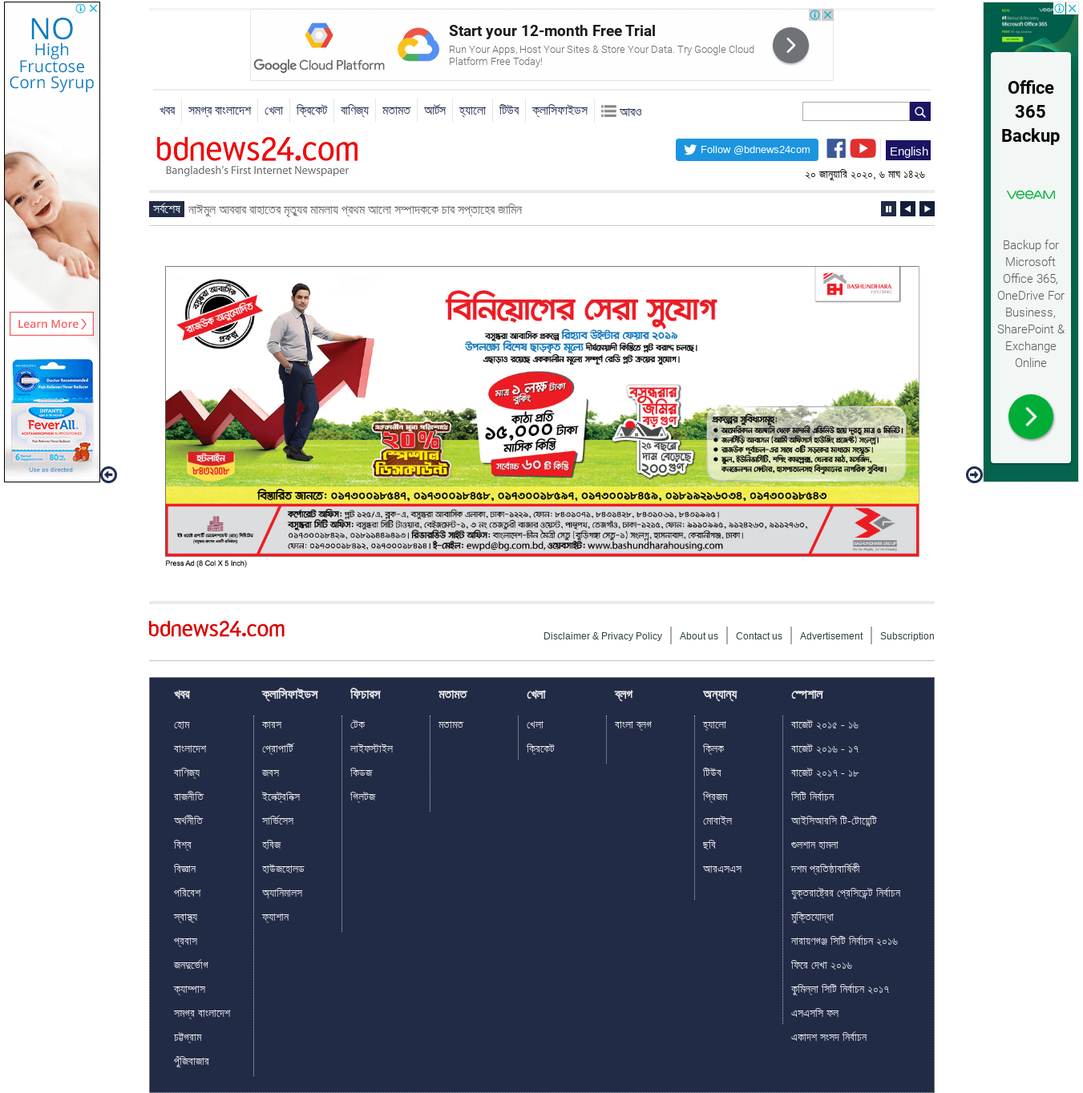fake_button: (0, 301, 102, 347), (1008, 388, 1058, 449)
